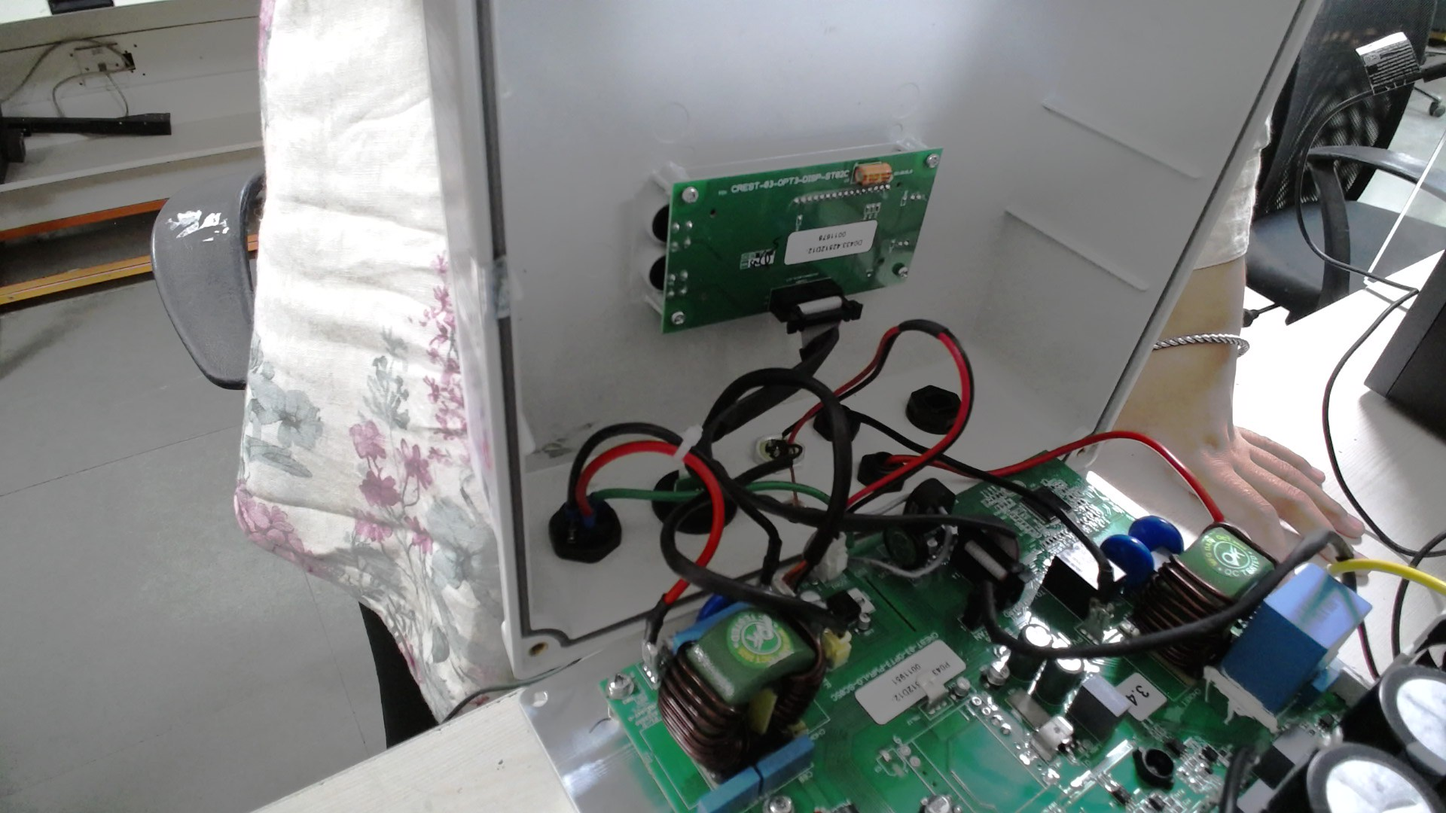wire_red: (536, 441, 634, 566)
